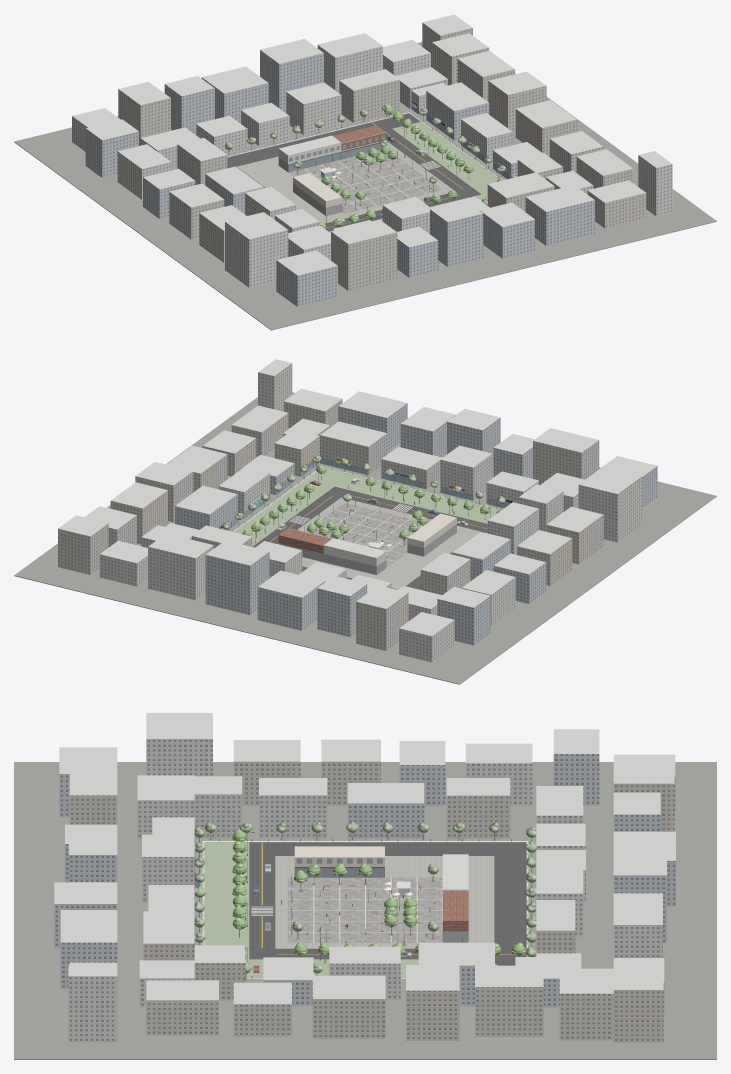
The picture shows the model from 3 angles, top to bottom: view 1: azimuth 30°, elevation 25°; view 2: azimuth 150°, elevation 25°; view 3: azimuth 270°, elevation 25°; orthographic projection. The views are drawn at different scales.
Parts seen in each view (by area): view 1: Geom3D (×92); view 2: Geom3D (×96); view 3: Geom3D (×96).
Part boxes in pixels (box(x1,y1,x2,y2)): Geom3D (×92): box(14, 14, 716, 330); Geom3D (×96): box(14, 363, 716, 684); Geom3D (×96): box(14, 713, 716, 1059).
Bounding box in the file's own units: 218 × 23.57 × 218.
131 materials, 17 textured.
